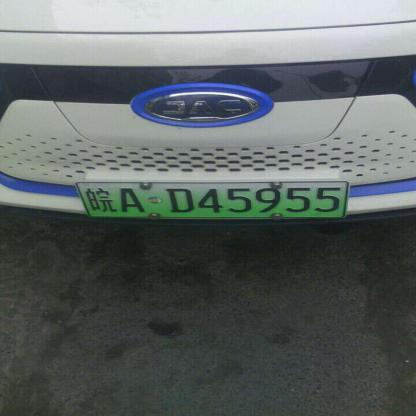lp: (76, 182, 346, 216)
